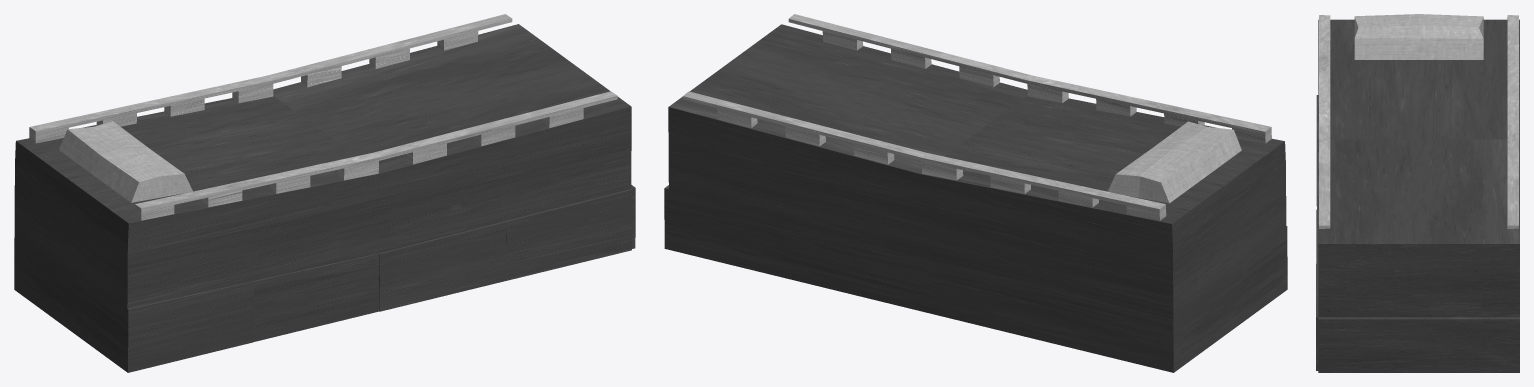
File: hospital_bed.fbx
3 renders of one model, left to right at view 1: azimuth 30°, elevation 25°; view 2: azimuth 150°, elevation 25°; view 3: azimuth 270°, elevation 25°, orthographic. The views are drawn at different scales.
Visible parts, largest first — view 1: Hospital_bed, Railing, pillow; view 2: Hospital_bed, Railing, pillow; view 3: Hospital_bed, pillow, Railing.
Boxes of the visible parts, left/top/right/bottom form: Hospital_bed: left=14, top=24, right=635, bottom=372; Railing: left=29, top=14, right=617, bottom=220; pillow: left=59, top=121, right=192, bottom=202; Hospital_bed: left=664, top=24, right=1287, bottom=372; Railing: left=683, top=14, right=1271, bottom=220; pillow: left=1108, top=121, right=1241, bottom=203; Hospital_bed: left=1316, top=19, right=1519, bottom=372; pillow: left=1354, top=14, right=1483, bottom=59; Railing: left=1318, top=15, right=1518, bottom=228.
Bounding box in the file's own units: 769 × 244 × 299.
Materials: 3 (3 with a texture image).
